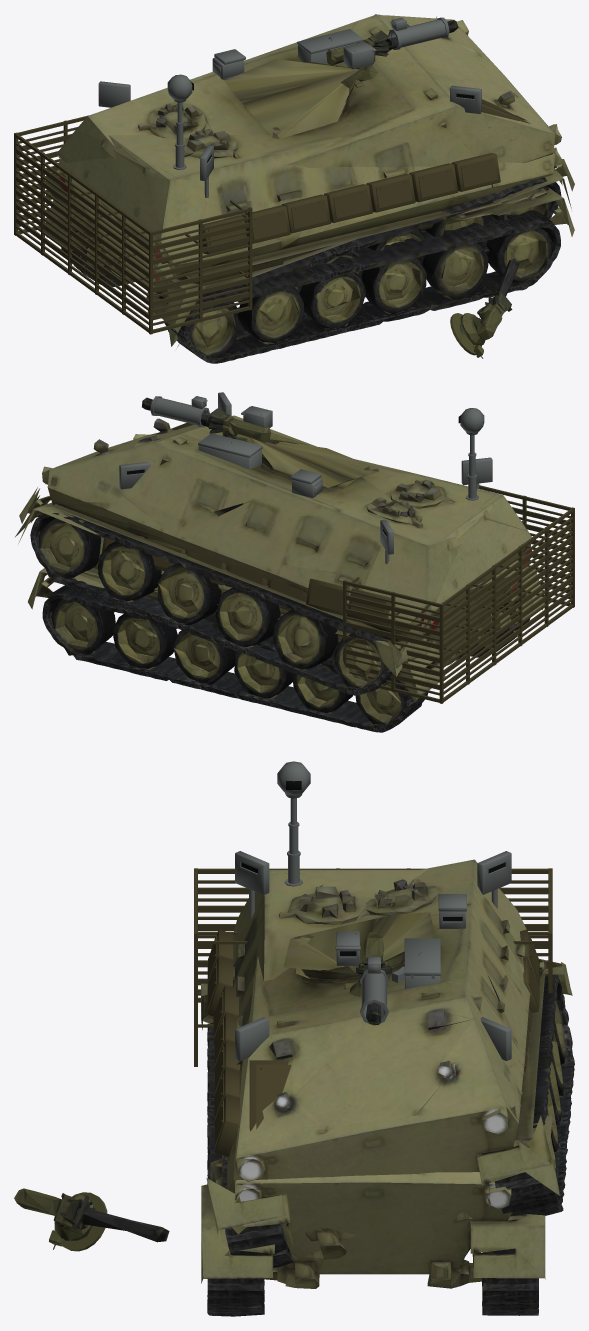
The model's file is ifv_namer.glb.
3 views of the same model, one above another, from view 1: azimuth 30°, elevation 25°; view 2: azimuth 150°, elevation 25°; view 3: azimuth 270°, elevation 25° (orthographic). The views are drawn at different scales.
Visible parts, largest first — view 1: WRECK_hull_hull, hull_hull, hull_rubber, kit_armour_3_hull_hull_far, kit_armour_2_hull_hull, kit_armour_3_hull_hull_near, kit_armour_3_hull_hull, WRECK_hull_rubber, kit_sensors_2_hull_hull, WRECK_turret_metal, kit_firepower_2_turret_metal, kit_firepower_3_turret_metal (+5 smaller); view 2: WRECK_hull_hull, WRECK_hull_rubber, hull_rubber, hull_hull, kit_armour_3_hull_hull_far, kit_armour_3_hull_hull_near, kit_armour_3_hull_hull, kit_armour_2_hull_hull, kit_sensors_2_hull_hull, kit_firepower_3_turret_metal, kit_firepower_2_turret_metal, kit_sensors_3_hull_hull (+4 smaller); view 3: WRECK_hull_hull, hull_hull, WRECK_hull_rubber, hull_rubber, kit_armour_2_hull_hull, kit_sensors_2_hull_hull, WRECK_turret_metal, kit_armour_3_hull_hull, kit_armour_3_hull_hull_far, kit_armour_1_hull_hull, kit_firepower_3_turret_metal, kit_sensors_3_hull_hull (+6 smaller).
Part boxes in pixels (<box>): WRECK_hull_hull: <box>46,15,571,347</box>; hull_hull: <box>47,106,571,324</box>; hull_rubber: <box>45,200,574,363</box>; kit_armour_3_hull_hull_far: <box>16,133,249,320</box>; kit_armour_2_hull_hull: <box>202,153,500,254</box>; kit_armour_3_hull_hull_near: <box>16,127,249,325</box>; kit_armour_3_hull_hull: <box>14,115,252,334</box>; WRECK_hull_rubber: <box>45,16,574,339</box>; kit_sensors_2_hull_hull: <box>98,14,481,197</box>; WRECK_turret_metal: <box>450,258,519,357</box>; kit_firepower_2_turret_metal: <box>388,17,449,49</box>; kit_firepower_3_turret_metal: <box>297,29,363,64</box>; WRECK_hull_hull: <box>15,415,525,676</box>; WRECK_hull_rubber: <box>19,487,524,695</box>; hull_rubber: <box>28,572,544,732</box>; hull_hull: <box>33,459,542,687</box>; kit_armour_3_hull_hull_far: <box>346,507,572,689</box>; kit_armour_3_hull_hull_near: <box>346,500,572,695</box>; kit_armour_3_hull_hull: <box>343,485,574,703</box>; kit_armour_2_hull_hull: <box>101,536,391,625</box>; kit_sensors_2_hull_hull: <box>119,392,492,564</box>; kit_firepower_3_turret_metal: <box>198,433,262,468</box>; kit_firepower_2_turret_metal: <box>150,396,209,427</box>; kit_sensors_3_hull_hull: <box>458,408,484,500</box>; WRECK_hull_hull: <box>216,859,572,1265</box>; hull_hull: <box>201,870,545,1288</box>; WRECK_hull_rubber: <box>206,959,574,1267</box>; hull_rubber: <box>201,1002,545,1316</box>; kit_armour_2_hull_hull: <box>207,929,539,1156</box>; kit_sensors_2_hull_hull: <box>235,851,511,1061</box>; WRECK_turret_metal: <box>49,1192,169,1251</box>; kit_armour_3_hull_hull: <box>194,868,552,1066</box>; kit_armour_3_hull_hull_far: <box>198,887,548,985</box>; kit_armour_1_hull_hull: <box>249,1060,291,1131</box>; kit_firepower_3_turret_metal: <box>392,938,440,988</box>; kit_sensors_3_hull_hull: <box>277,761,310,886</box>.
Size of the model in its own units: 7.93 by 4.64 by 6.71.
Materials: 1 (1 with a texture image).
